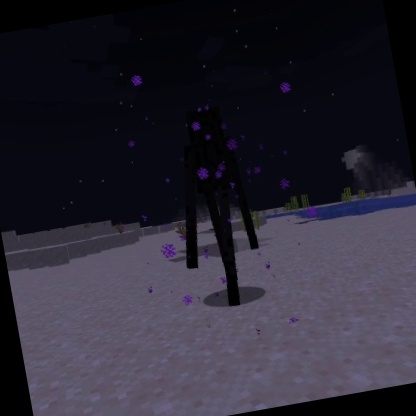enderman: (155, 98, 274, 318)
